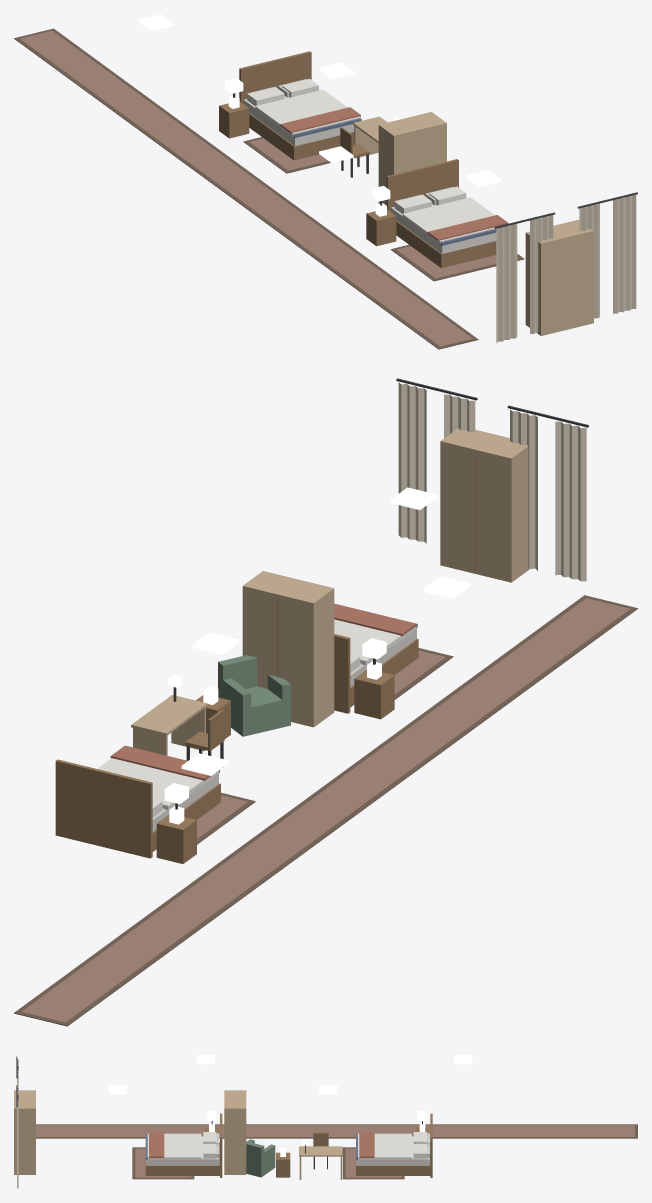
Rendered from fine-s1.glb.
3 views of the same model, one above another, from view 1: azimuth 30°, elevation 25°; view 2: azimuth 150°, elevation 25°; view 3: azimuth 270°, elevation 25° (orthographic). The views are drawn at different scales.
Visible parts, largest first — view 1: soft-s1, dresser.001, bed-frame.001, bed-frame.000, dresser.000, nightstand.001, nightstand.000, writing-desk.000, cafe-chair.000; view 2: soft-s1, dresser.001, dresser.000, bed-frame.000, lounge-chair.000, writing-desk.000, bed-frame.001, nightstand.000, nightstand.001, cafe-chair.000; view 3: soft-s1, dresser.000, dresser.001, bed-frame.001, bed-frame.000, lounge-chair.000, writing-desk.000, side-table.000, cafe-chair.000.
Boxes of the visible parts, x1=… form: soft-s1: x1=14, y1=28, x2=637, y2=349; dresser.001: x1=525, y1=219, x2=593, y2=335; bed-frame.001: x1=386, y1=159, x2=496, y2=268; bed-frame.000: x1=239, y1=51, x2=361, y2=160; dresser.000: x1=378, y1=112, x2=446, y2=205; nightstand.001: x1=366, y1=203, x2=396, y2=246; nightstand.000: x1=219, y1=95, x2=249, y2=138; writing-desk.000: x1=353, y1=116, x2=401, y2=158; cafe-chair.000: x1=340, y1=127, x2=369, y2=177; soft-s1: x1=14, y1=378, x2=637, y2=1026; dresser.001: x1=440, y1=428, x2=529, y2=582; dresser.000: x1=242, y1=571, x2=334, y2=727; bed-frame.000: x1=55, y1=759, x2=220, y2=858; lounge-chair.000: x1=218, y1=655, x2=290, y2=736; writing-desk.000: x1=131, y1=675, x2=207, y2=755; bed-frame.001: x1=334, y1=624, x2=418, y2=713; nightstand.000: x1=156, y1=806, x2=196, y2=863; nightstand.001: x1=354, y1=661, x2=394, y2=719; cafe-chair.000: x1=185, y1=709, x2=224, y2=767; soft-s1: x1=16, y1=1056, x2=637, y2=1188; dresser.000: x1=224, y1=1090, x2=246, y2=1174; dresser.001: x1=14, y1=1090, x2=35, y2=1174; bed-frame.001: x1=145, y1=1113, x2=222, y2=1177; bed-frame.000: x1=356, y1=1113, x2=432, y2=1177; lounge-chair.000: x1=246, y1=1139, x2=275, y2=1177; writing-desk.000: x1=299, y1=1139, x2=342, y2=1179; side-table.000: x1=276, y1=1148, x2=290, y2=1177; cafe-chair.000: x1=313, y1=1132, x2=328, y2=1169.
Bounding box in the file's own units: 4.28 × 2.56 × 17.11.
